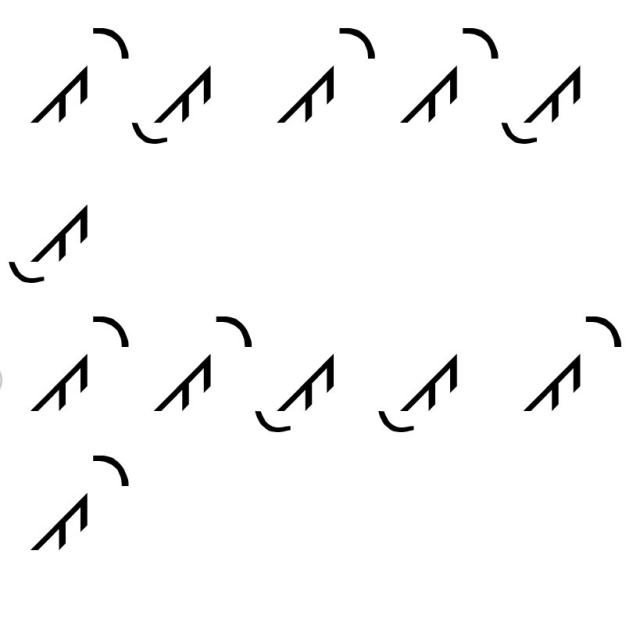kaw: (370, 336, 466, 449), (5, 190, 101, 292), (254, 329, 339, 442), (503, 44, 592, 151), (130, 50, 220, 155)
kay: (520, 295, 626, 421), (279, 10, 380, 138), (29, 441, 131, 562), (148, 310, 252, 426), (27, 15, 128, 134), (21, 310, 130, 418), (399, 20, 500, 136)
